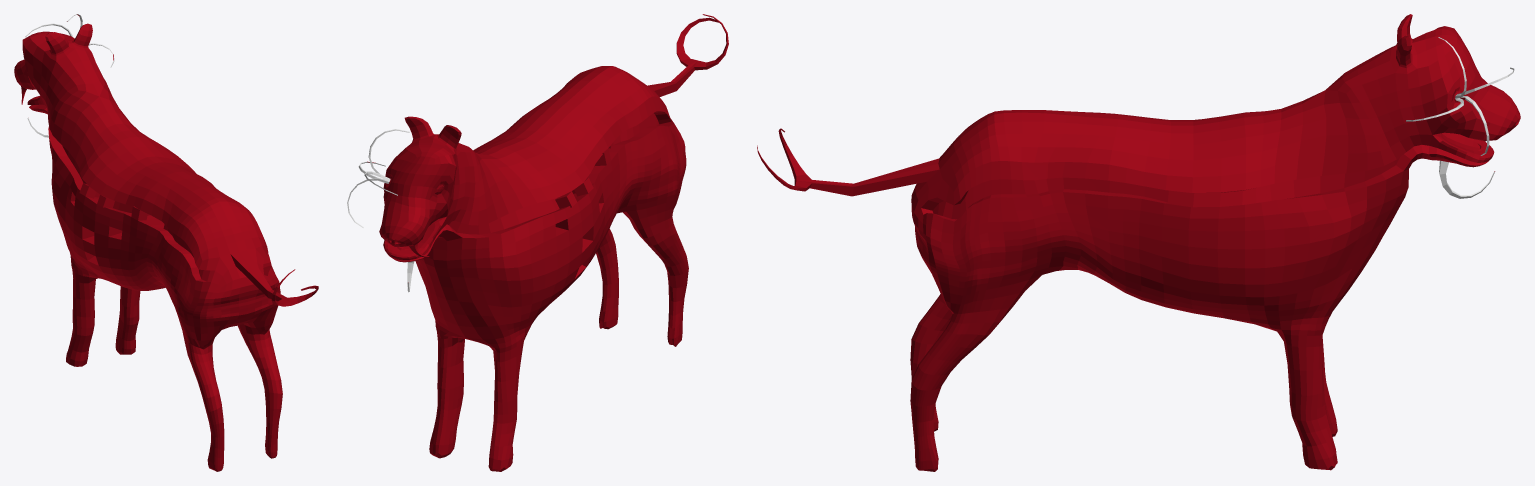
Rendered from Dog2.fbx.
3 views of the same model, side by side, from view 1: azimuth 30°, elevation 25°; view 2: azimuth 150°, elevation 25°; view 3: azimuth 270°, elevation 25° (orthographic). The views are drawn at different scales.
Parts seen in each view (by area): view 1: Polygon; view 2: Polygon; view 3: Polygon.
Boxes of the visible parts, x1=… form: Polygon: x1=14, y1=14, x2=318, y2=471; Polygon: x1=347, y1=14, x2=728, y2=471; Polygon: x1=757, y1=14, x2=1520, y2=471.
Size of the model in its own units: 28.18 by 73.84 by 120.
